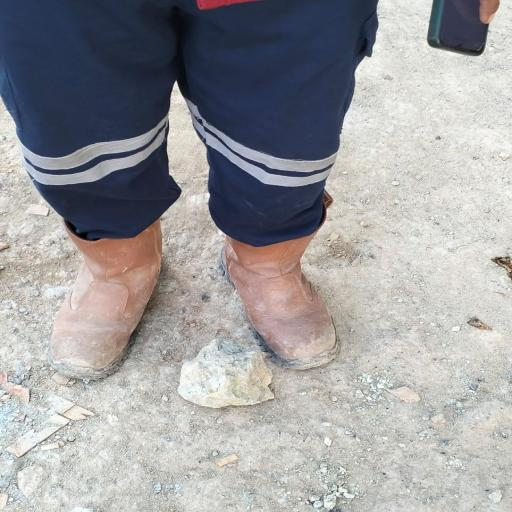safety_shoe: (212, 195, 346, 372), (35, 215, 170, 382)
